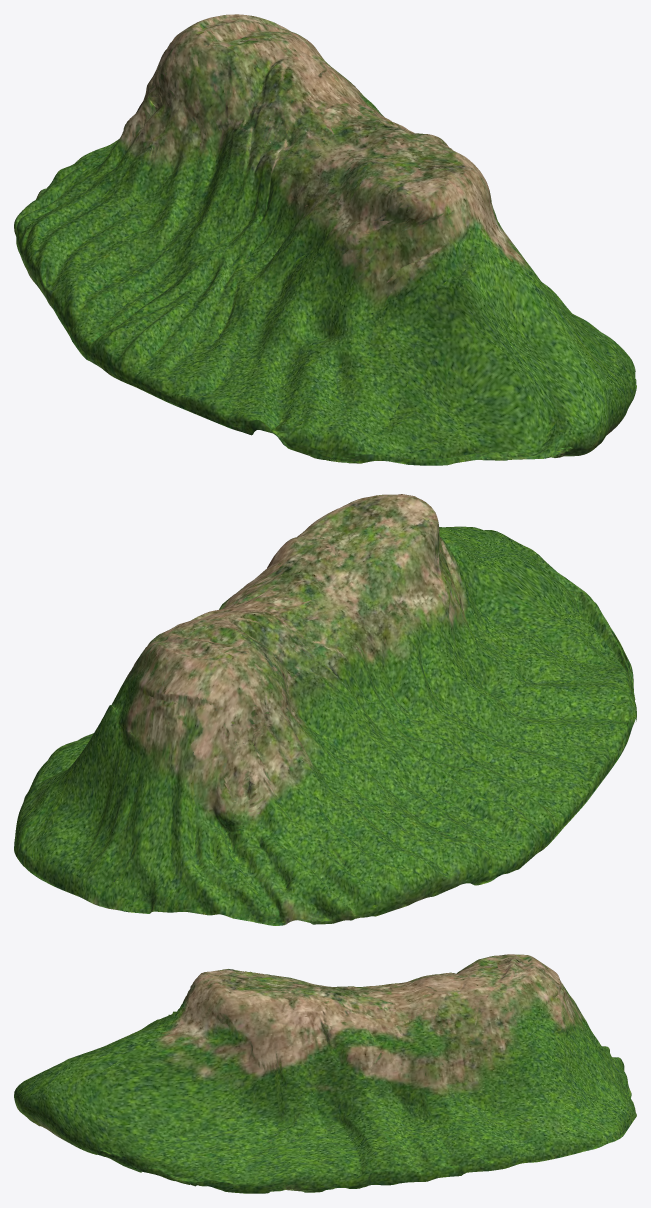
File: Sierra.glb
The picture shows the model from 3 angles, top to bottom: view 1: azimuth 30°, elevation 25°; view 2: azimuth 150°, elevation 25°; view 3: azimuth 270°, elevation 25°; orthographic projection. The views are drawn at different scales.
Visible parts, largest first — view 1: Landscape; view 2: Landscape; view 3: Landscape.
Boxes of the visible parts, x1,y1,x2,y2 form: Landscape: (14,14,636,465); Landscape: (14,494,636,925); Landscape: (14,954,636,1193).
Size of the model in its own units: 7.43 by 3.94 by 13.07.
1 material, 1 textured.
